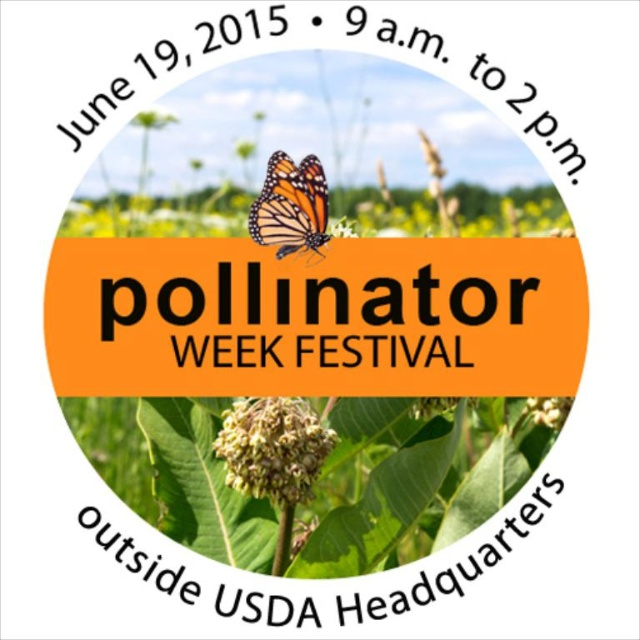Moths and butterflies: (245, 146, 346, 267)
